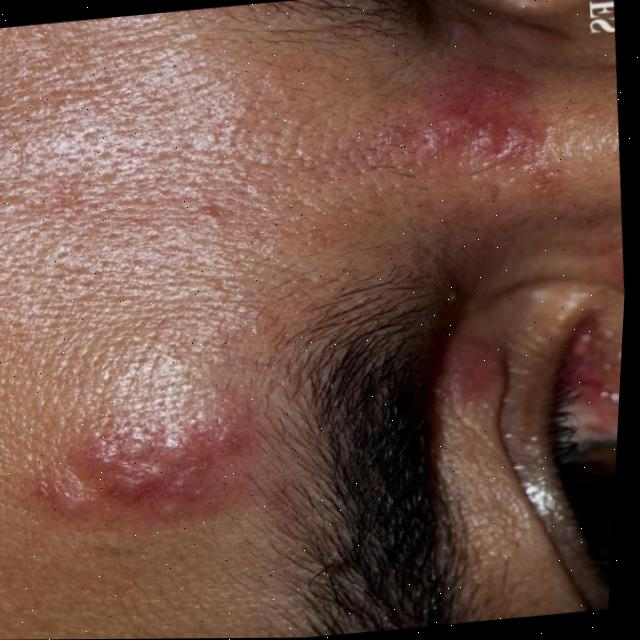Rosacea: (44, 417, 218, 535), (394, 78, 526, 168)
